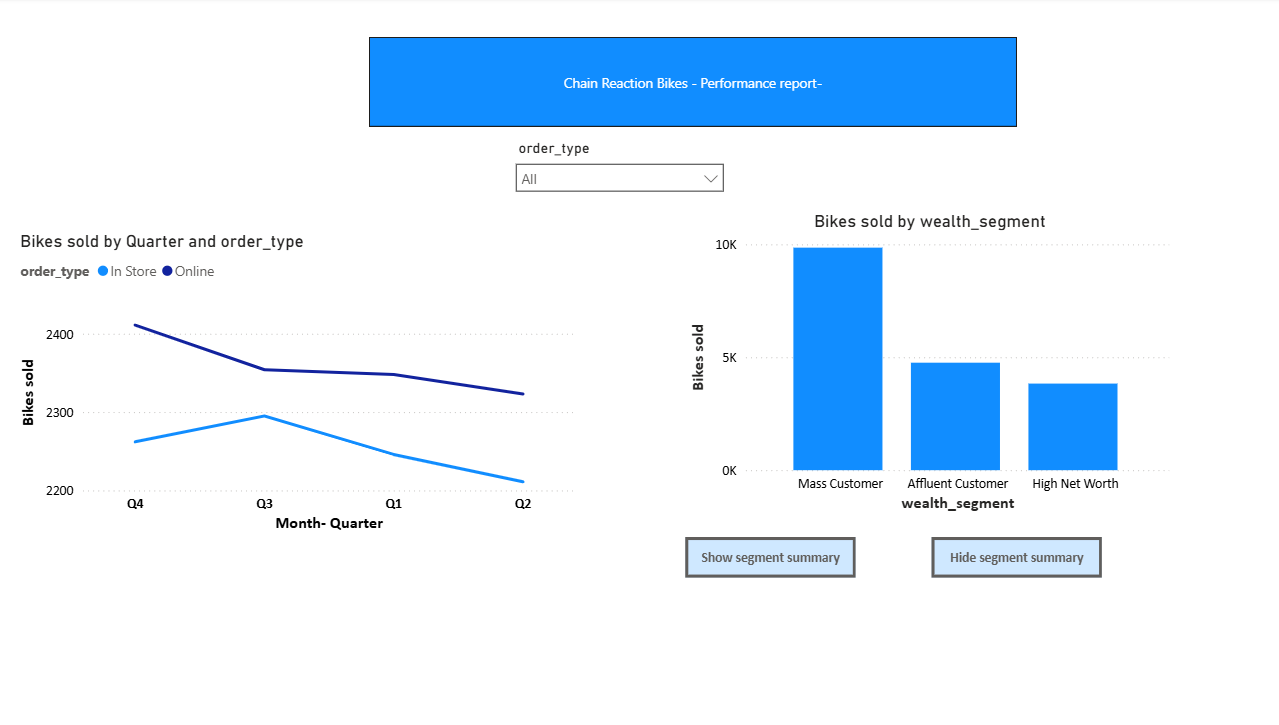

Layout of this report page (visuals, bound fields, positions):
{"tool":"powerbi","page":{"name":"Performance Report","canvas":[1280,720],"ordinal":0},"visuals":[{"type":"lineChart","fields":{"Y":["Transactions.Bikes sold"],"Series":["Transactions.order_type"],"Category":["Calendar.Quarter","Calendar.Month Name Short"]},"box":[16,229.3,554.3,301.1],"z":0},{"type":"clusteredColumnChart","fields":{"Y":["Transactions.Bikes sold"],"Category":["Customer.wealth_segment"]},"box":[673.9,209.3,480.5,301.1],"z":1000},{"type":"actionButton","box":[673.9,530.3,167.5,39.9],"z":3000},{"type":"actionButton","box":[915.1,530.3,167.5,39.9],"z":4000},{"type":"slicer","fields":{"Values":["Transactions.order_type"]},"box":[497.1,134.8,224.2,74.7],"z":5000},{"type":"shape","box":[362.9,39.9,636,87.7],"z":6000}]}

Visuals, with their boxes in screenshot pixels (x1, y1, x2, y2), scaled from the page's 1280x720 canvas onto the 1279x725 screenshot:
lineChart - Transactions.Bikes sold x Transactions.order_type: {"x1": 16, "y1": 231, "x2": 570, "y2": 534}
clusteredColumnChart - Transactions.Bikes sold x Customer.wealth_segment: {"x1": 673, "y1": 211, "x2": 1153, "y2": 514}
actionButton: {"x1": 673, "y1": 534, "x2": 841, "y2": 574}
actionButton: {"x1": 914, "y1": 534, "x2": 1082, "y2": 574}
slicer - Transactions.order_type: {"x1": 497, "y1": 136, "x2": 721, "y2": 211}
shape: {"x1": 363, "y1": 40, "x2": 998, "y2": 128}
